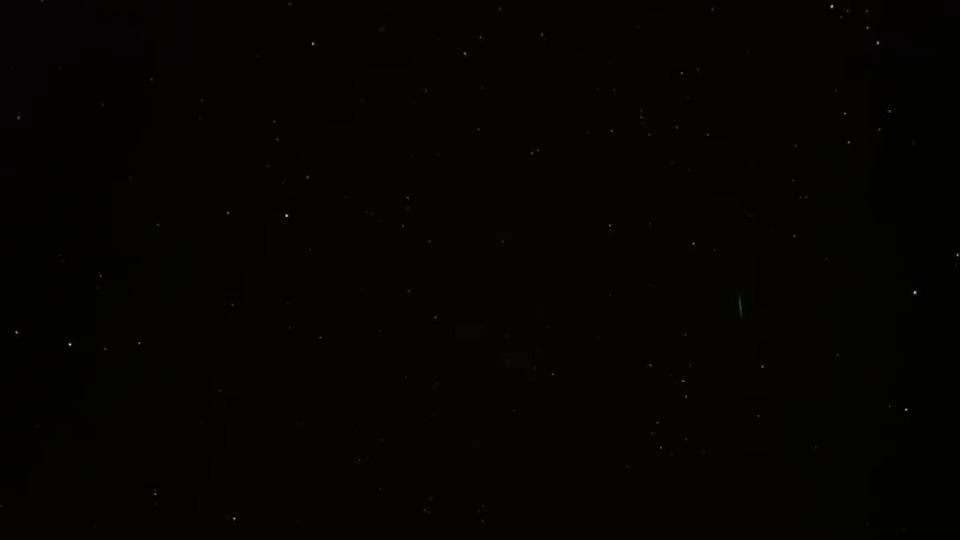meteorite: (708, 289, 770, 321)
